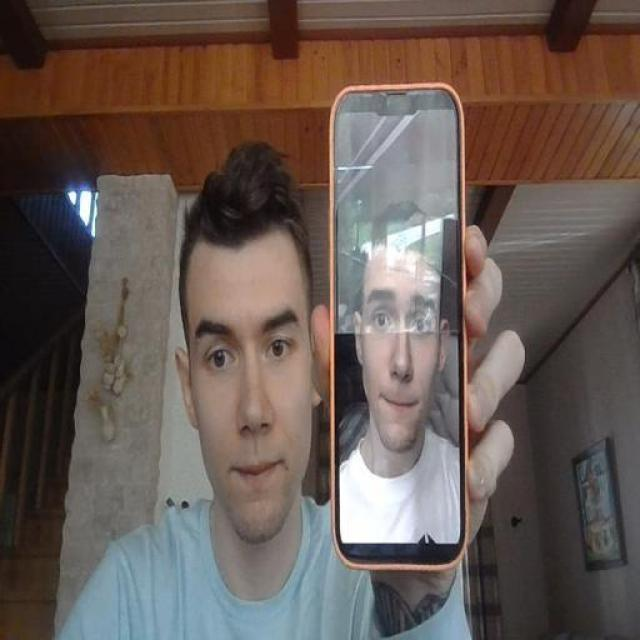bareface: (184, 230, 310, 520)
